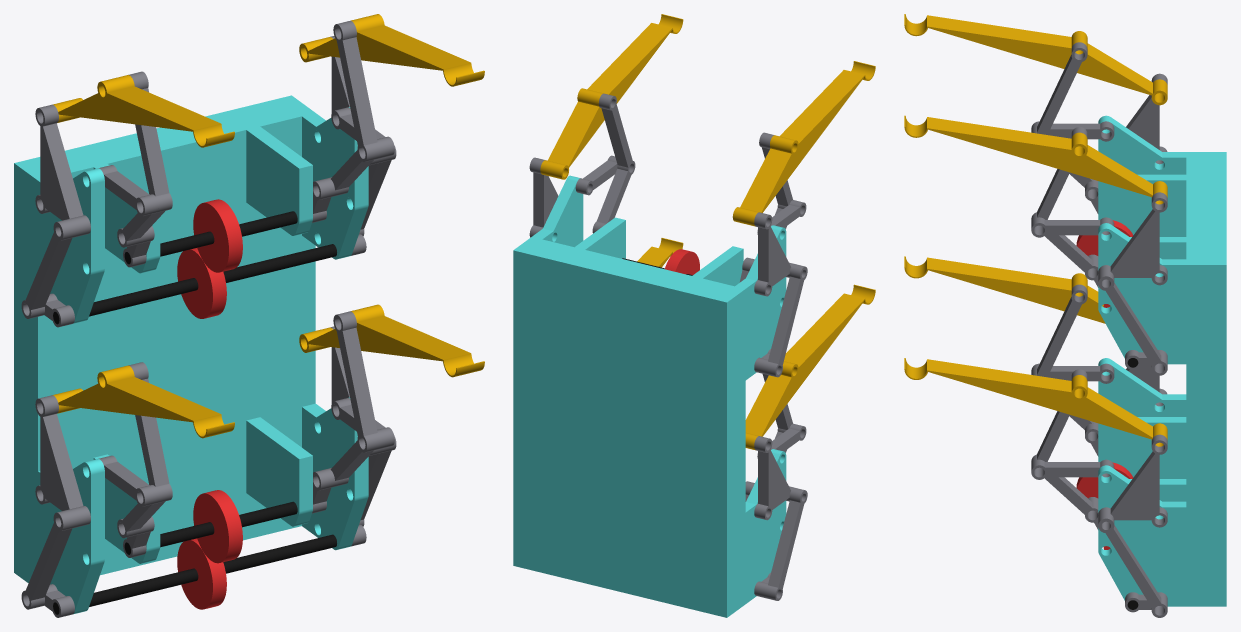
File: kinematic_mockup.dae
3 views of the same model, side by side, from view 1: azimuth 30°, elevation 25°; view 2: azimuth 150°, elevation 25°; view 3: azimuth 270°, elevation 25° (orthographic). The views are drawn at different scales.
Visible parts, largest first — view 1: baseFBXASC032FBXASC0401FBXASC041, base, body1_fl, body1_rl, body1_rr, body1_fr, body2_fl, body2_rl, hanging_arm_fr, hanging_arm_rr, hanging_arm_fl, hanging_arm_rl (+34 smaller); view 2: base, baseFBXASC032FBXASC0401FBXASC041, hanging_arm_rr, hanging_arm_rl, hanging_arm_fr, body1_rr, body1_fr, body1_rl, fixed_bottom_rr, fixed_bottom_fr, connector_bottom_rr, connector_bottom_fr (+11 smaller); view 3: baseFBXASC032FBXASC0401FBXASC041, body1_fl, body1_rl, hanging_arm_rl, hanging_arm_fl, hanging_arm_rr, hanging_arm_fr, body2_rr, body2_fr, fixed_bottom_fl, fixed_bottom_rl, body1_rr (+20 smaller).
Boxes of the visible parts, x1,y1,x2,y2 form: baseFBXASC032FBXASC0401FBXASC041: (156, 95, 315, 556); base: (14, 133, 176, 582); body1_fl: (302, 397, 368, 550); body1_rl: (302, 107, 368, 259); body1_rr: (38, 168, 104, 323); body1_fr: (38, 459, 104, 614); body2_fl: (246, 417, 312, 526); body2_rl: (246, 126, 312, 235); hanging_arm_fr: (52, 365, 234, 438); hanging_arm_rr: (53, 75, 234, 147); hanging_arm_fl: (299, 304, 484, 377); hanging_arm_rl: (299, 14, 484, 86); base: (620, 263, 745, 617); baseFBXASC032FBXASC0401FBXASC041: (513, 237, 637, 591); hanging_arm_rr: (732, 61, 875, 226); hanging_arm_rl: (540, 14, 683, 179); hanging_arm_fr: (745, 284, 875, 450); body1_rr: (735, 225, 786, 380); body1_fr: (745, 449, 786, 603); body1_rl: (532, 175, 583, 247); fixed_bottom_rr: (754, 212, 793, 296); fixed_bottom_fr: (754, 436, 793, 520); connector_bottom_rr: (765, 264, 807, 377); connector_bottom_fr: (765, 487, 807, 600); baseFBXASC032FBXASC0401FBXASC041: (1186, 208, 1226, 606); body1_fl: (1098, 465, 1186, 606); body1_rl: (1098, 223, 1186, 364); hanging_arm_rl: (904, 115, 1167, 204); hanging_arm_fl: (904, 358, 1167, 446); hanging_arm_rr: (904, 14, 1167, 105); hanging_arm_fr: (904, 256, 1105, 323); body2_rr: (1098, 174, 1186, 236); body2_fr: (1098, 417, 1186, 478); fixed_bottom_fl: (1098, 434, 1167, 527); fixed_bottom_rl: (1098, 192, 1167, 285); body1_rr: (1098, 115, 1186, 174).
Bounding box in the file's own units: 0.12 × 0.2062 × 0.1205.
